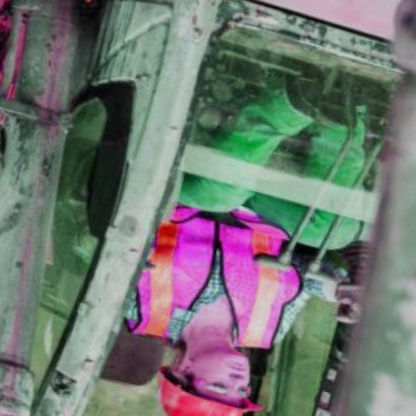vest: (118, 188, 318, 372)
yellow: (136, 368, 275, 416)
